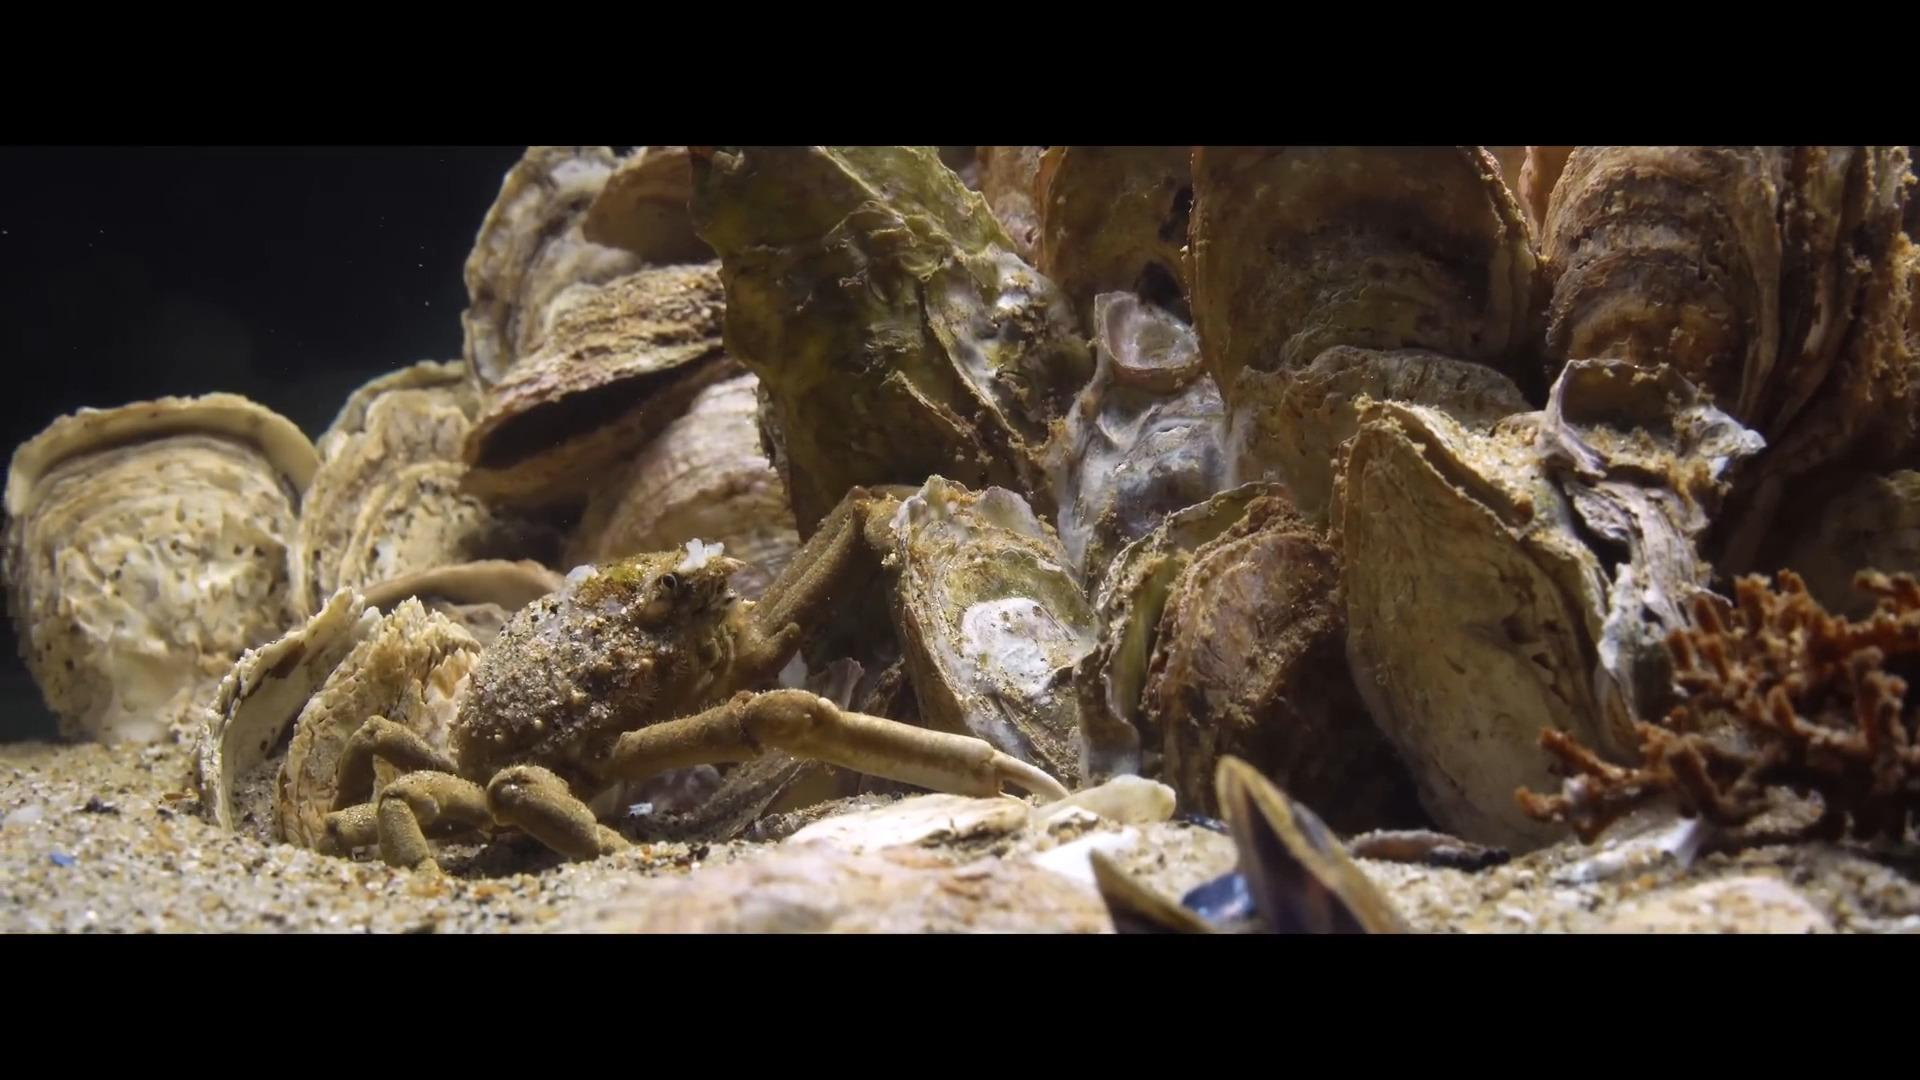Oyster: (683, 141, 1073, 538), (1333, 394, 1668, 852), (1185, 144, 1547, 487), (5, 393, 319, 740), (1138, 492, 1394, 832), (1531, 145, 1793, 431), (873, 469, 1104, 793), (235, 587, 496, 852), (465, 265, 737, 505), (1731, 152, 1920, 497), (294, 364, 518, 617), (574, 364, 793, 596)
